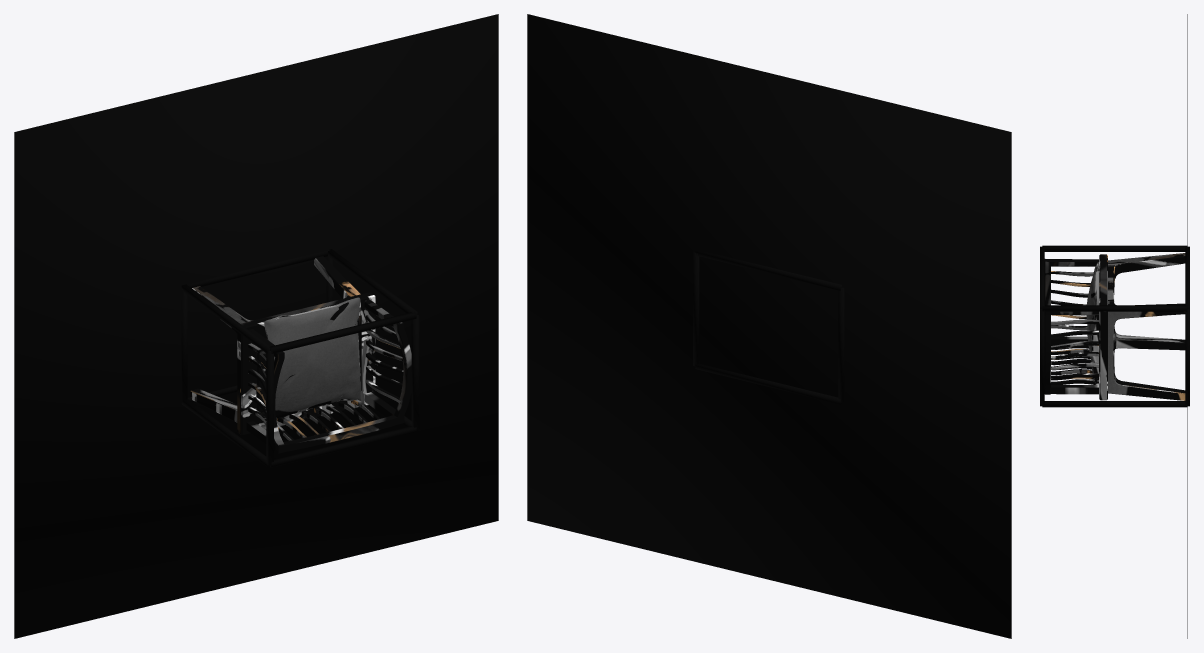
3 renders of one model, left to right at view 1: azimuth 30°, elevation 25°; view 2: azimuth 150°, elevation 25°; view 3: azimuth 270°, elevation 25°, orthographic. The views are drawn at different scales.
Bounding box in the file's own units: 2 × 2 × 0.637.
